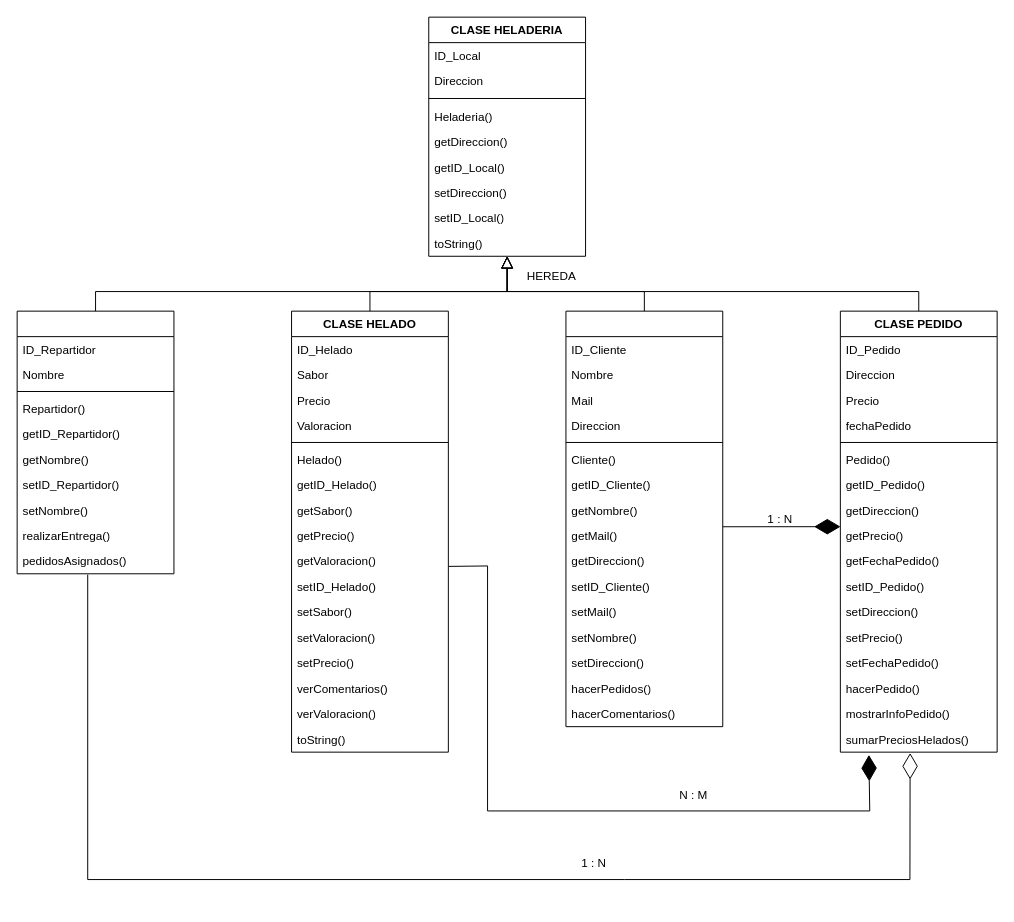
This 1014x922 diagram has some shape labels left out. The box of each missing label's shape, as (x1, y1, x2, y2) in pixels:
CLASE CLIENTE: (565, 310, 723, 727)
CLASE REPARTIDOR: (16, 310, 174, 574)
